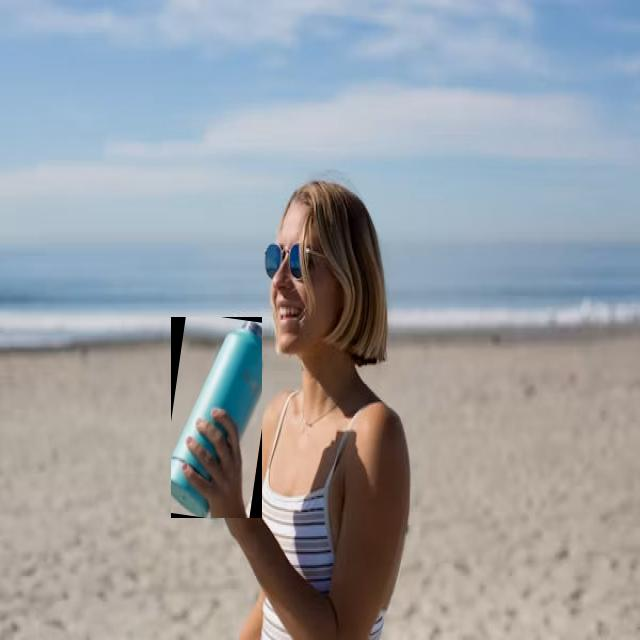Bottle: (171, 317, 262, 518)
